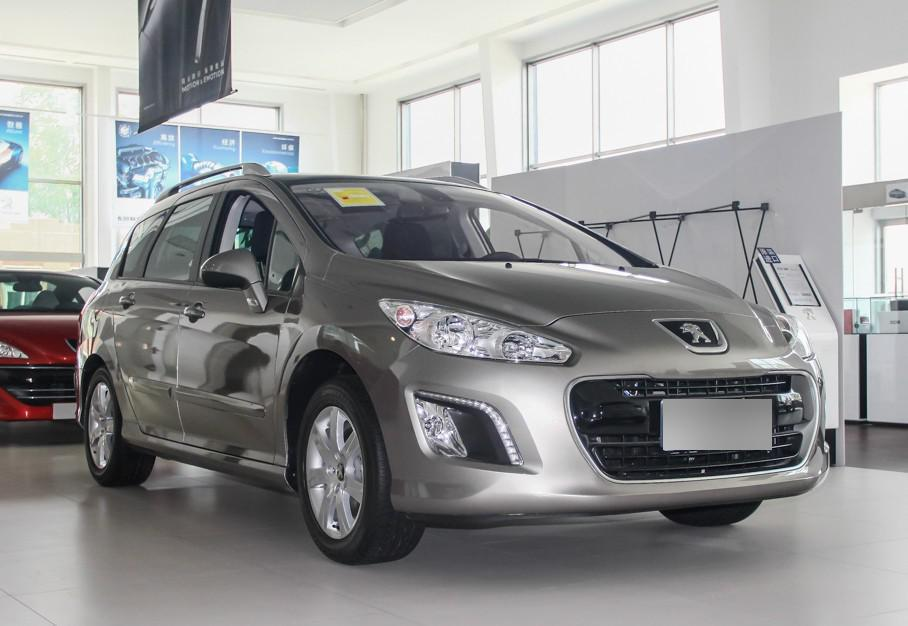Wagon: (73, 161, 831, 566)
